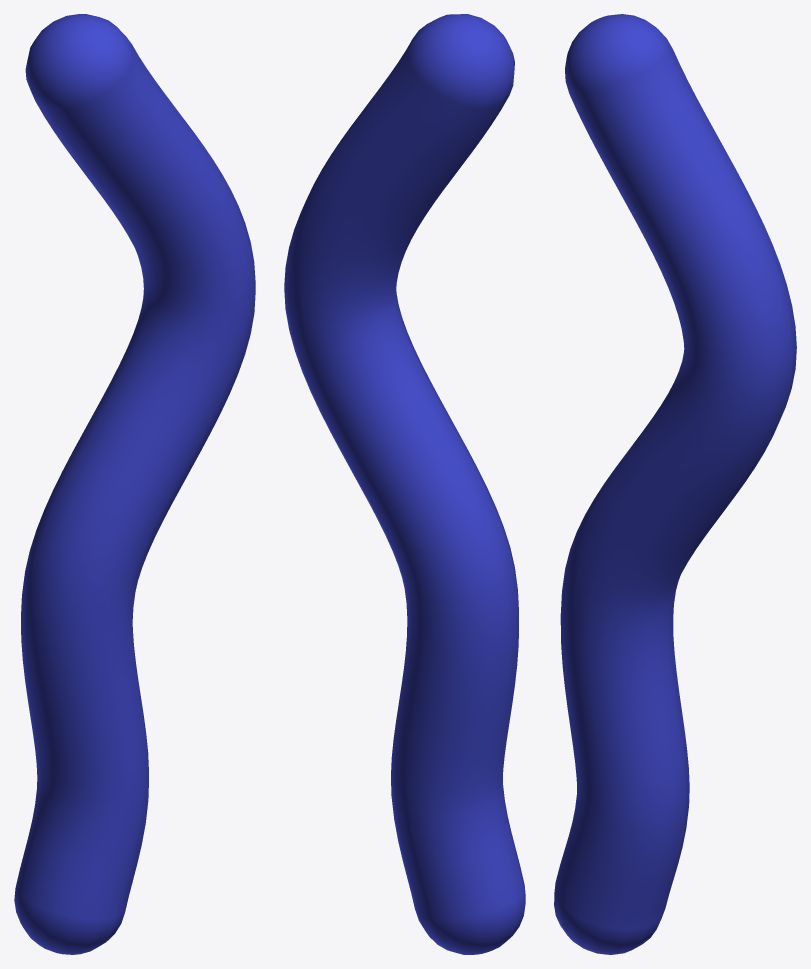
3 renders of one model, left to right at view 1: azimuth 30°, elevation 25°; view 2: azimuth 150°, elevation 25°; view 3: azimuth 330°, elevation 25°, orthographic.
Visible parts, largest first — view 1: root; view 2: root; view 3: root.
Part boxes in pixels (bbox=[...]): root: bbox=[14, 14, 255, 954]; root: bbox=[284, 14, 525, 954]; root: bbox=[554, 14, 796, 954].
Size of the model in its own units: 0.1391 by 0.5438 by 0.0593.
